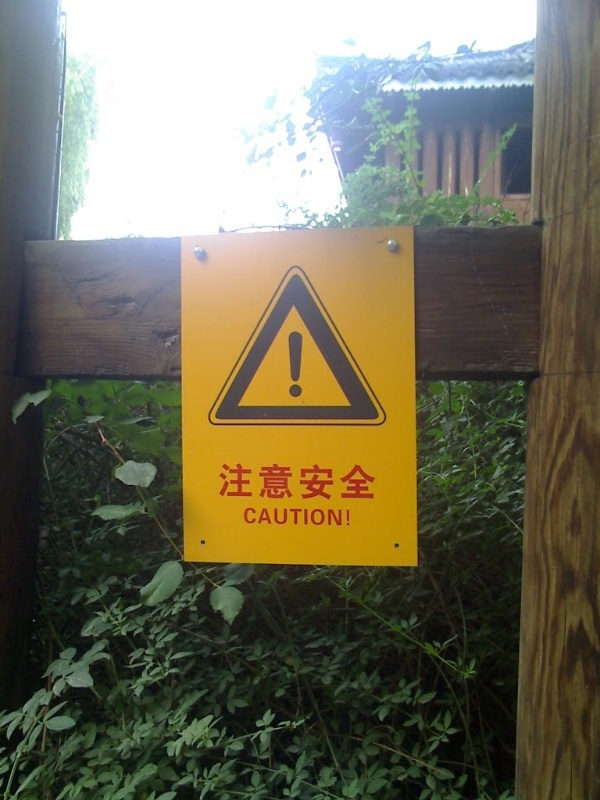text: (289, 331, 304, 398), (225, 463, 240, 500), (241, 463, 256, 500), (257, 463, 272, 500), (273, 463, 288, 500), (289, 463, 304, 500), (305, 463, 320, 500), (321, 463, 336, 500), (337, 463, 352, 500), (353, 463, 368, 500), (257, 507, 272, 528), (273, 507, 288, 528), (289, 507, 304, 528), (305, 507, 320, 528), (321, 507, 336, 528), (337, 507, 351, 528), (243, 507, 256, 528), (369, 463, 375, 500), (222, 463, 224, 500)
